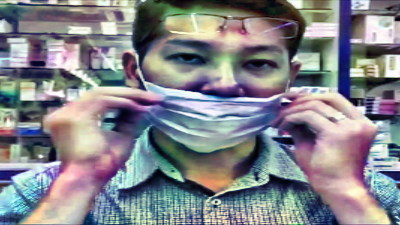mask_weared_incorrect: (140, 37, 294, 154)
